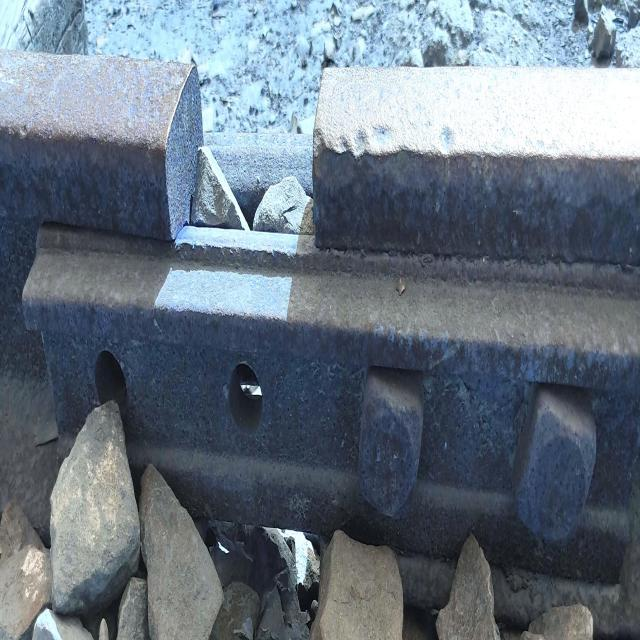Defective Joint: (17, 223, 640, 585)
